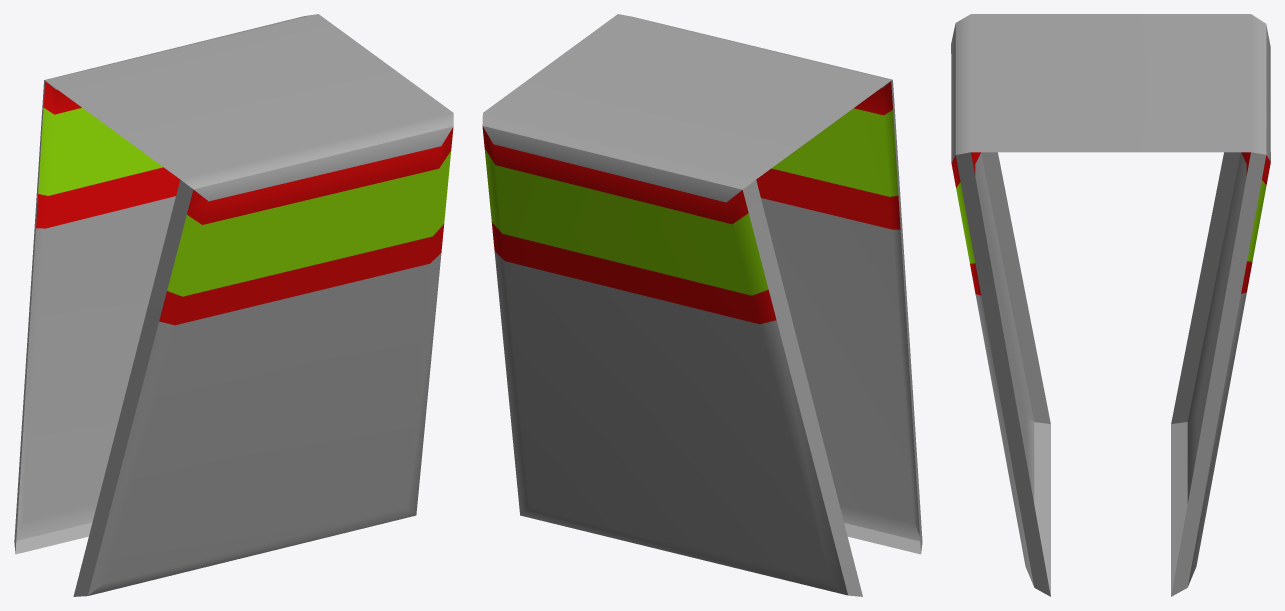
File: Imur 3.2.fbx
The picture shows the model from 3 angles, left to right: view 1: azimuth 30°, elevation 25°; view 2: azimuth 150°, elevation 25°; view 3: azimuth 270°, elevation 25°; orthographic projection. The views are drawn at different scales.
Parts seen in each view (by area): view 1: Imur_3_2; view 2: Imur_3_2; view 3: Imur_3_2.
Boxes of the visible parts, left/top/right/bottom form: Imur_3_2: left=14, top=14, right=453, bottom=596; Imur_3_2: left=482, top=14, right=922, bottom=596; Imur_3_2: left=951, top=14, right=1270, bottom=596.
Bounding box in the file's own units: 250 × 300 × 195.
